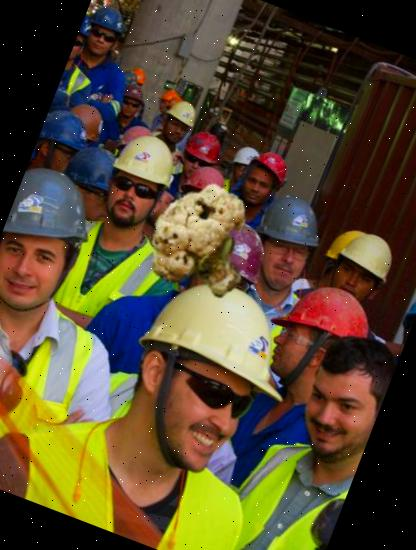Cauliflower: (128, 169, 280, 321)
